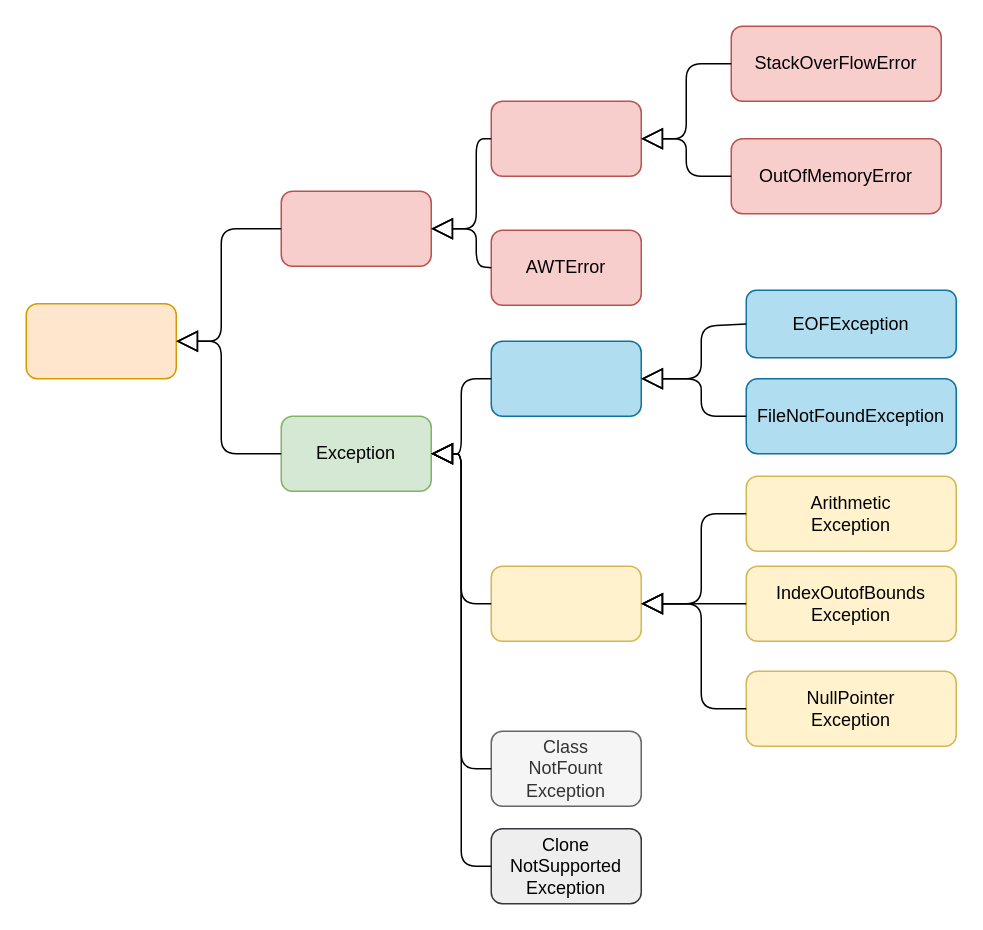
The diagram is 983 pixels wide and 930 high, and some of its shapes have lost their labels. Here are the shapes that lost their labels. From the top down, the centre of each, then its label:
point (565, 138): VirtulMachine Error
point (355, 228): Error
point (100, 340): Throwable
point (565, 378): IOException
point (565, 603): Runtime Exception
